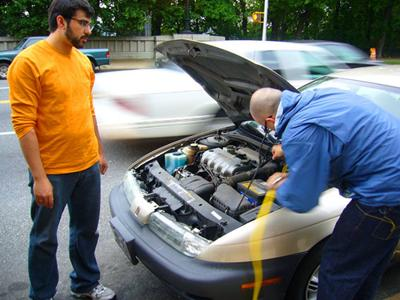person: (249, 84, 400, 300)
